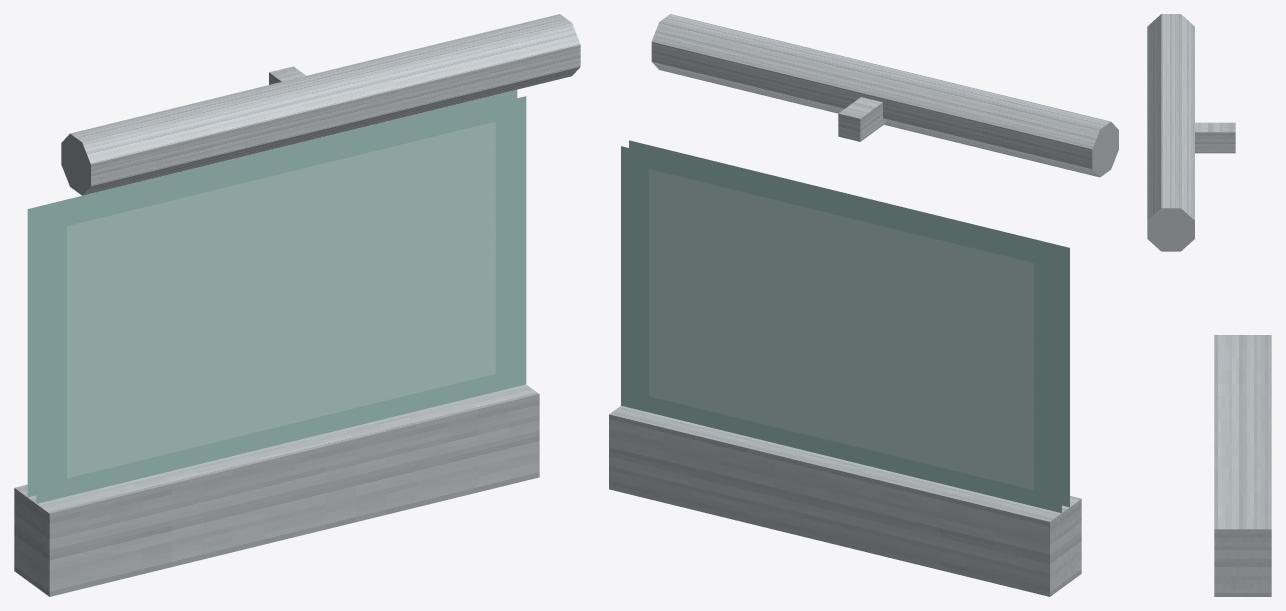
Rendered from level.obj.
3 renders of one model, left to right at view 1: azimuth 30°, elevation 25°; view 2: azimuth 150°, elevation 25°; view 3: azimuth 270°, elevation 25°, orthographic. The views are drawn at different scales.
Visible parts, largest first — view 1: railing_glass_stainless_level; view 2: railing_glass_stainless_level; view 3: railing_glass_stainless_level.
Boxes of the visible parts, x1,y1,x2,y2 form: railing_glass_stainless_level: (14,14,580,596); railing_glass_stainless_level: (609,14,1118,596); railing_glass_stainless_level: (1147,14,1271,596).
Bounding box in the file's own units: 1 × 0.9332 × 0.2707.
